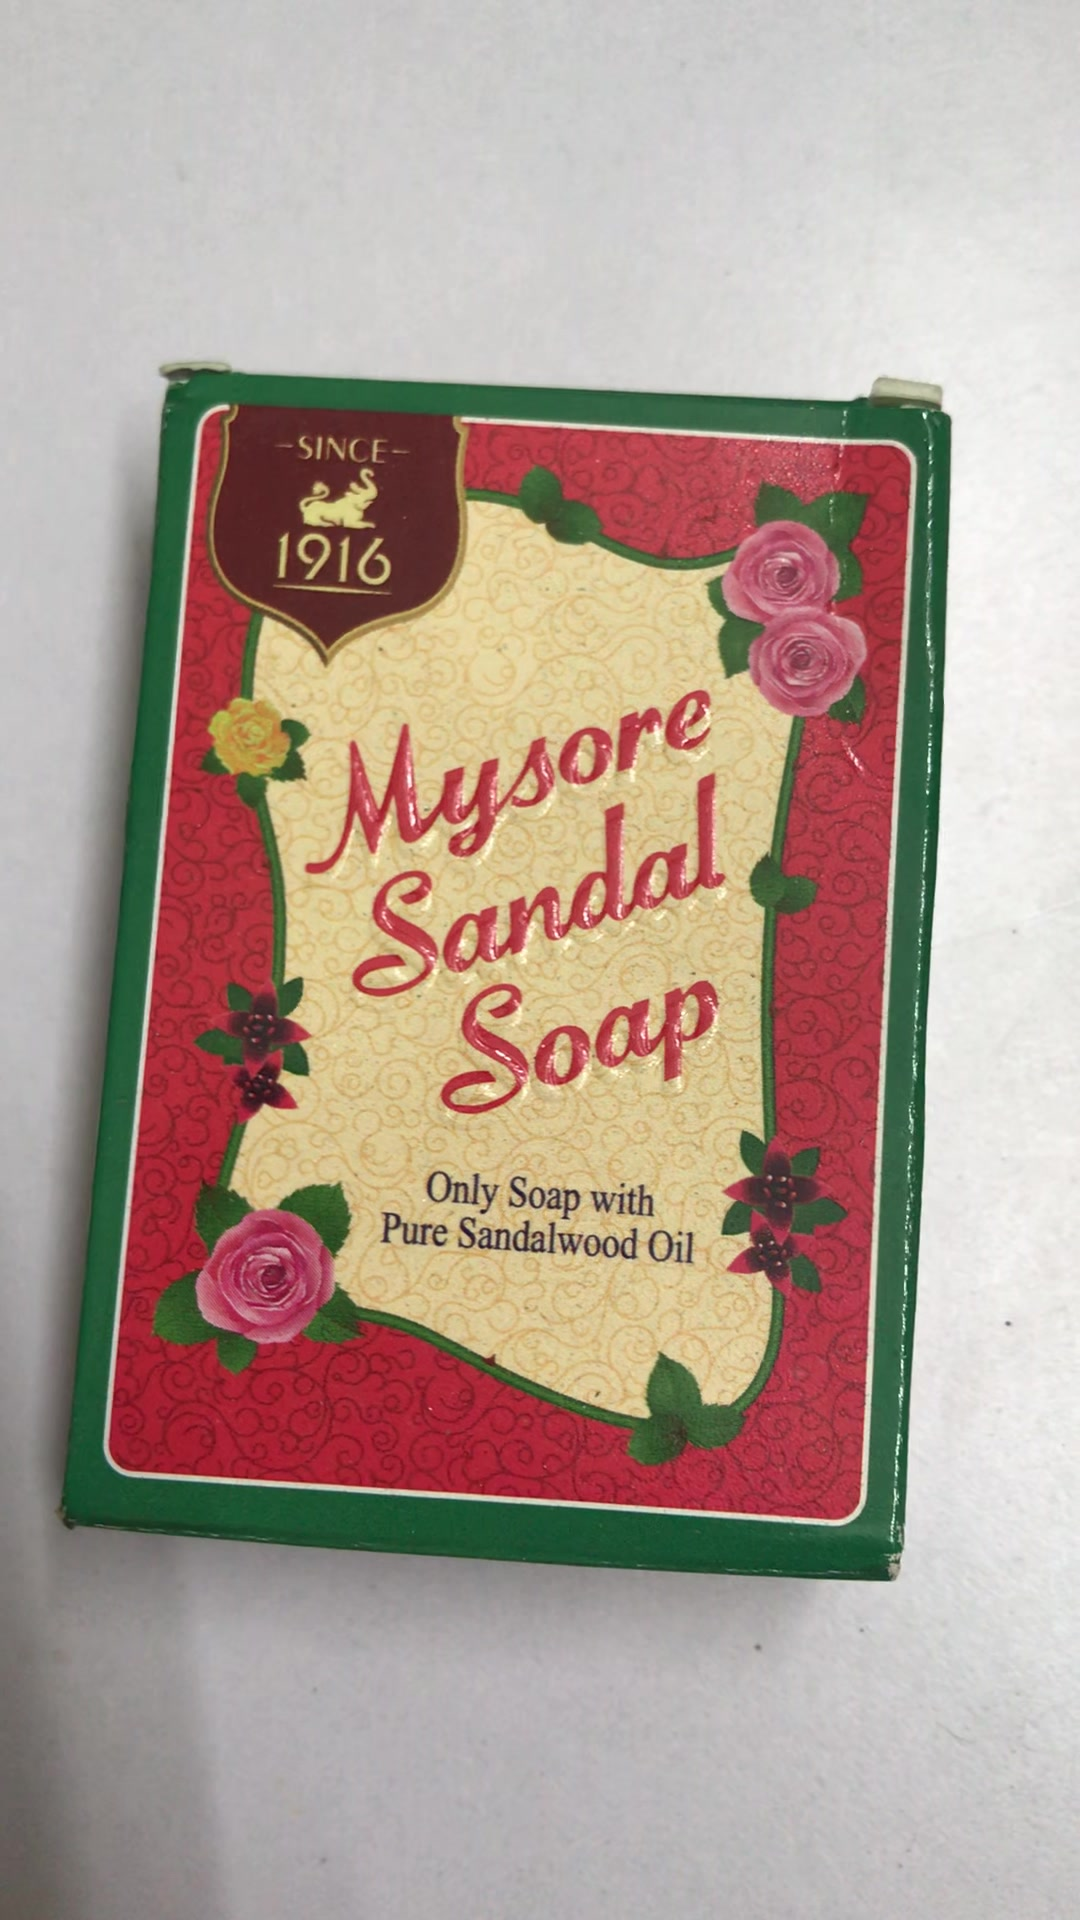mysore sandal soap: (69, 373, 903, 1581)
